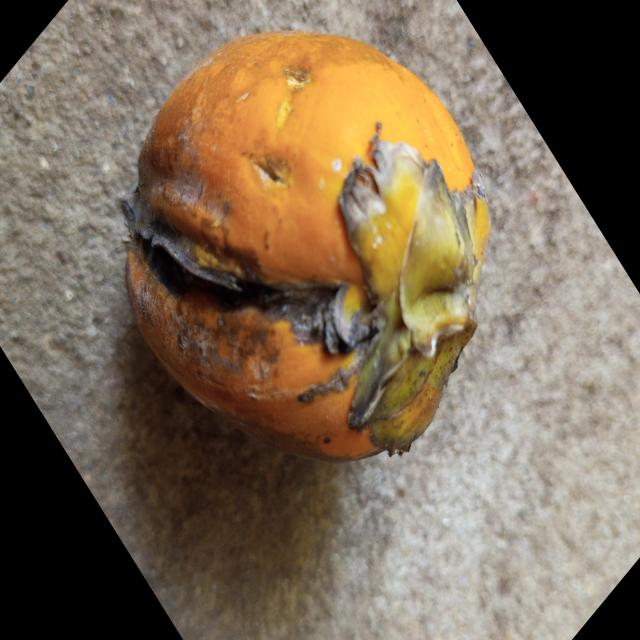damaged: (121, 32, 492, 464)
